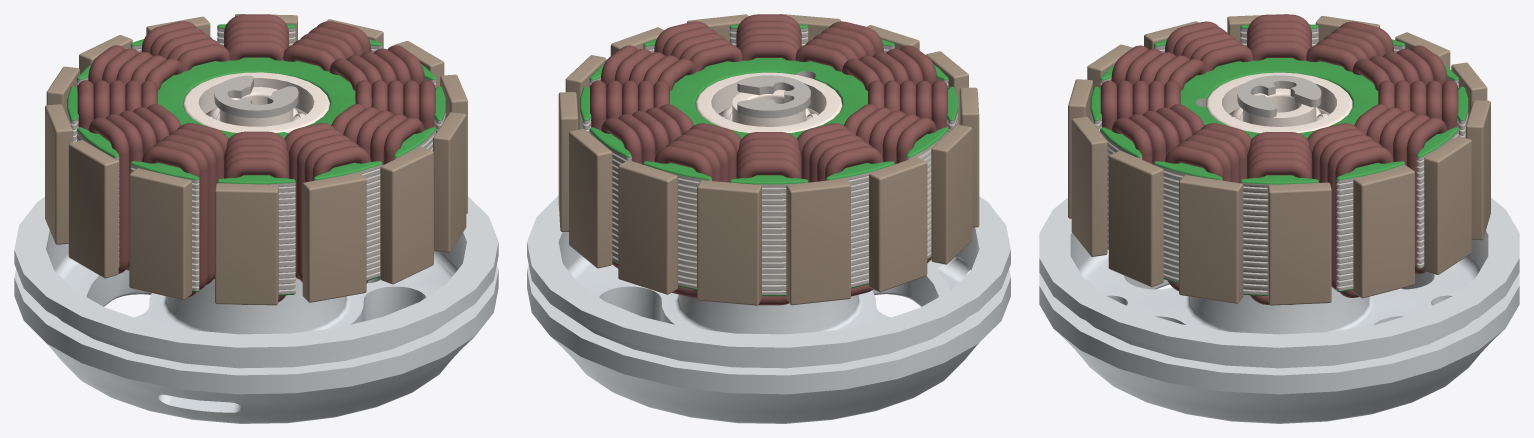
Rendered from stator.glb.
3 renders of one model, left to right at view 1: azimuth 30°, elevation 25°; view 2: azimuth 150°, elevation 25°; view 3: azimuth 270°, elevation 25°, orthographic.
Visible parts, largest first — view 1: Magnets.007; view 2: Magnets.007; view 3: Magnets.007.
Boxes of the visible parts, x1=… form: Magnets.007: x1=14, y1=14, x2=498, y2=423; Magnets.007: x1=527, y1=14, x2=1010, y2=423; Magnets.007: x1=1039, y1=14, x2=1519, y2=423.
Size of the model in its own units: 0.023 by 0.0138 by 0.0228.
